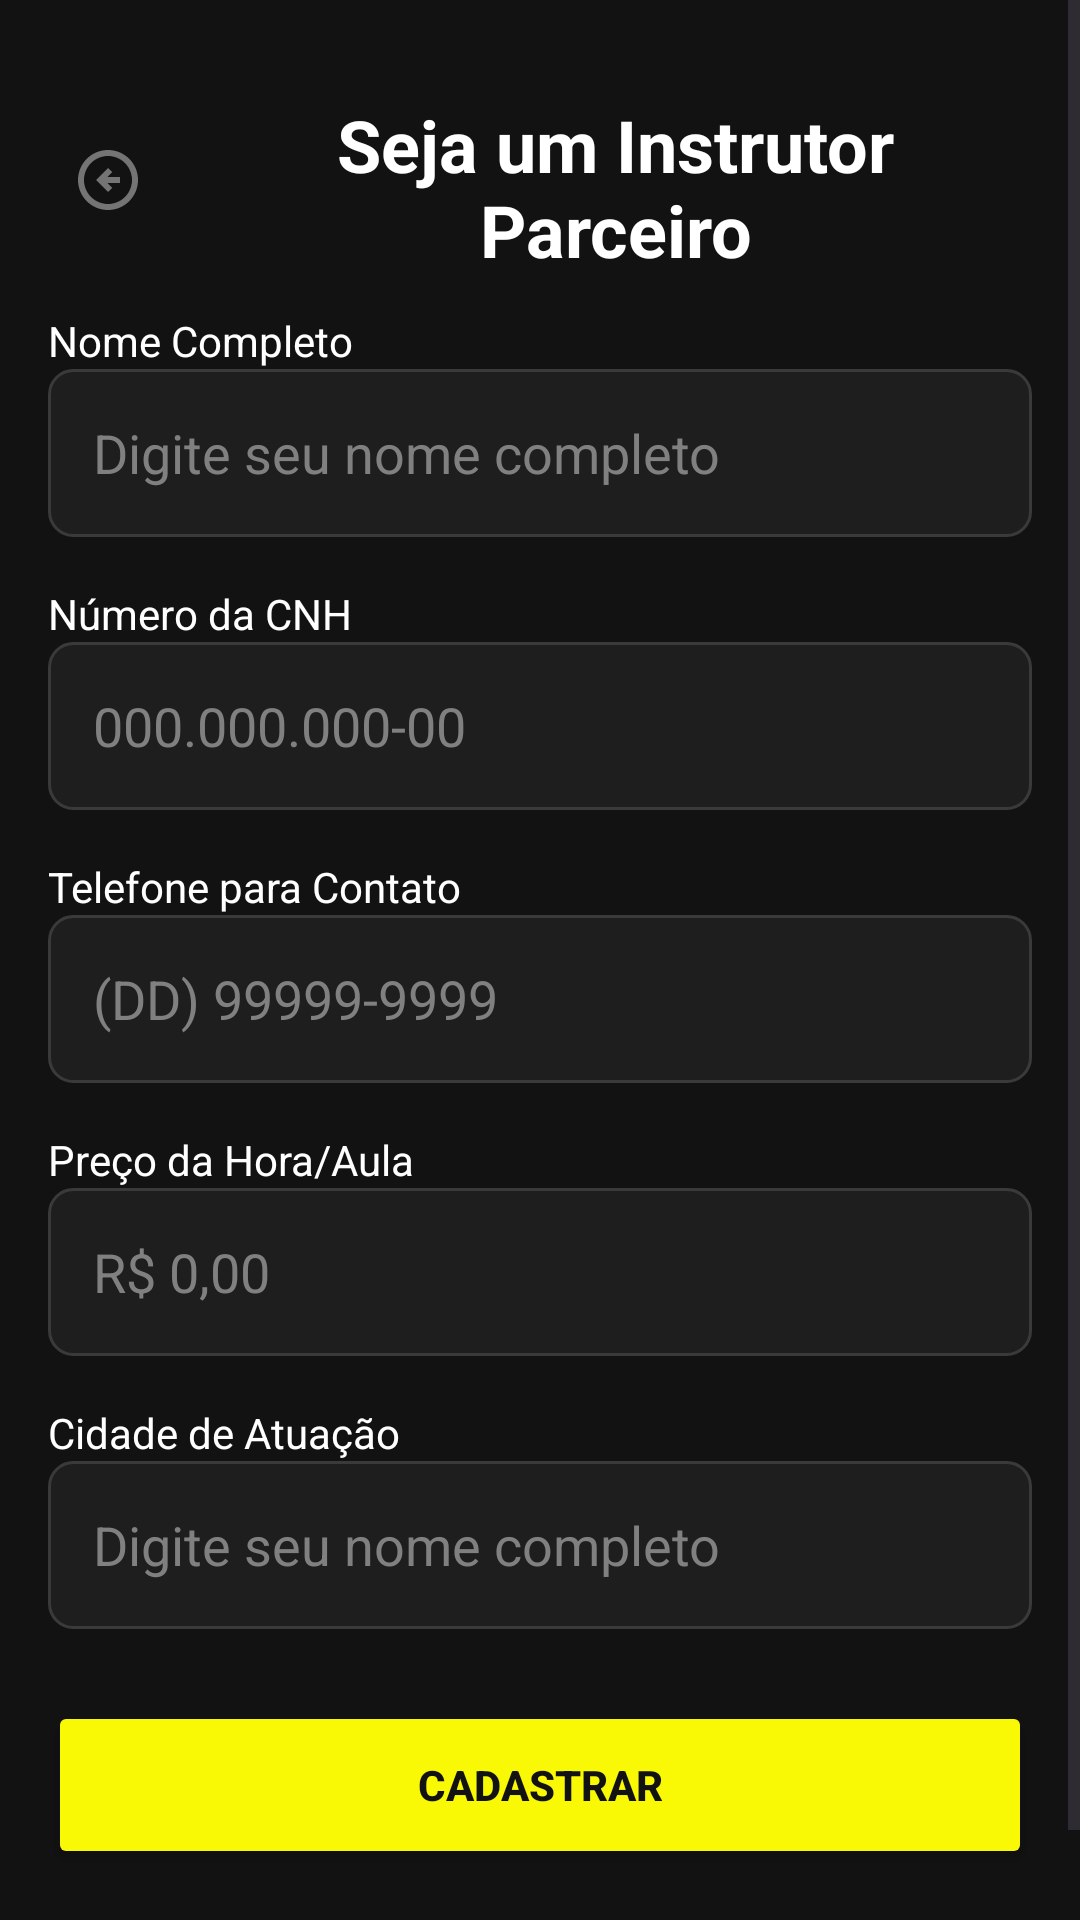

Where icons sit on this 1080px×1920px app screen, as bbox=[x1, y1, x2, y2]:
Voltar: bbox=[78, 150, 138, 210]
